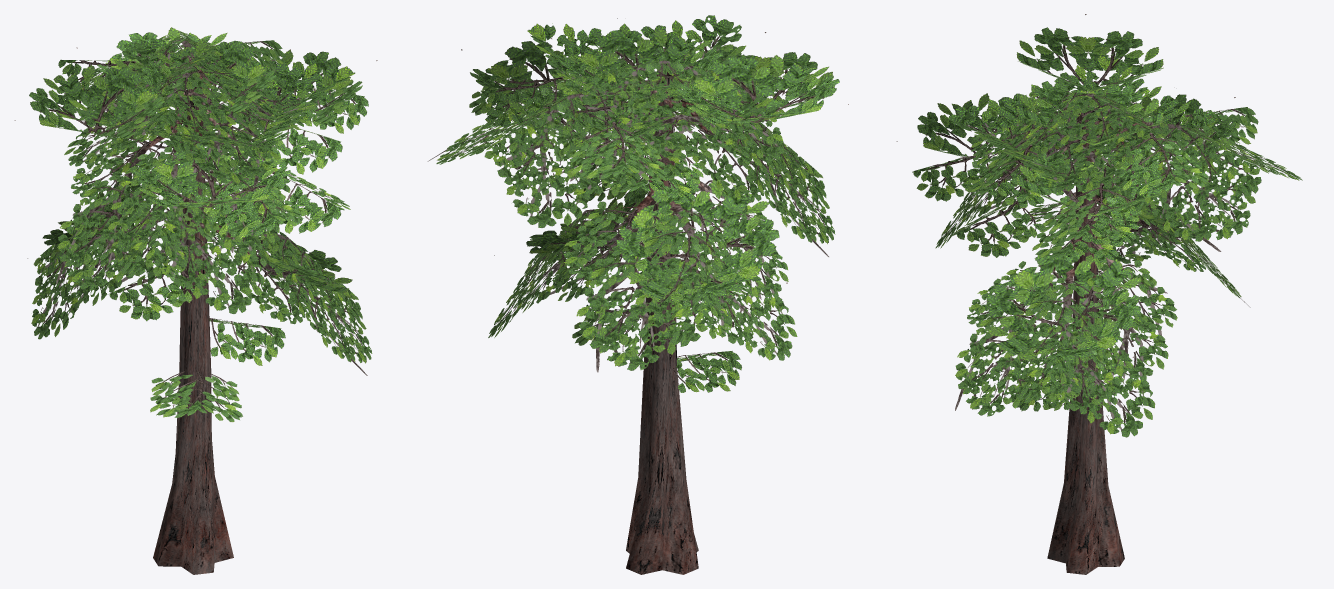
Rendered from teak_1.glb.
3 renders of one model, left to right at view 1: azimuth 30°, elevation 25°; view 2: azimuth 150°, elevation 25°; view 3: azimuth 270°, elevation 25°, orthographic. The views are drawn at different scales.
Visible parts, largest first — view 1: teak_1; view 2: teak_1; view 3: teak_1.
Part boxes in pixels (x1,y1,x2,y2): teak_1: [14, 27, 377, 574]; teak_1: [427, 15, 848, 574]; teak_1: [896, 14, 1302, 574].
Size of the model in its own units: 11.85 by 14.85 by 12.32.
2 materials, 2 textured.
